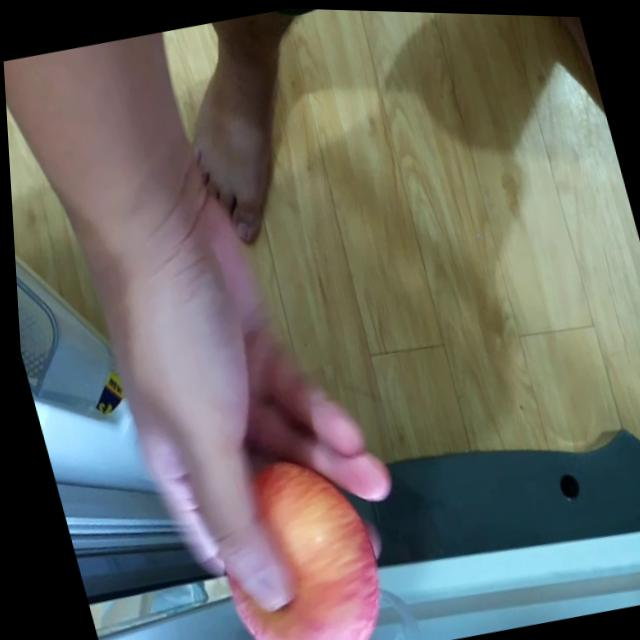apple: (191, 440, 391, 640)
